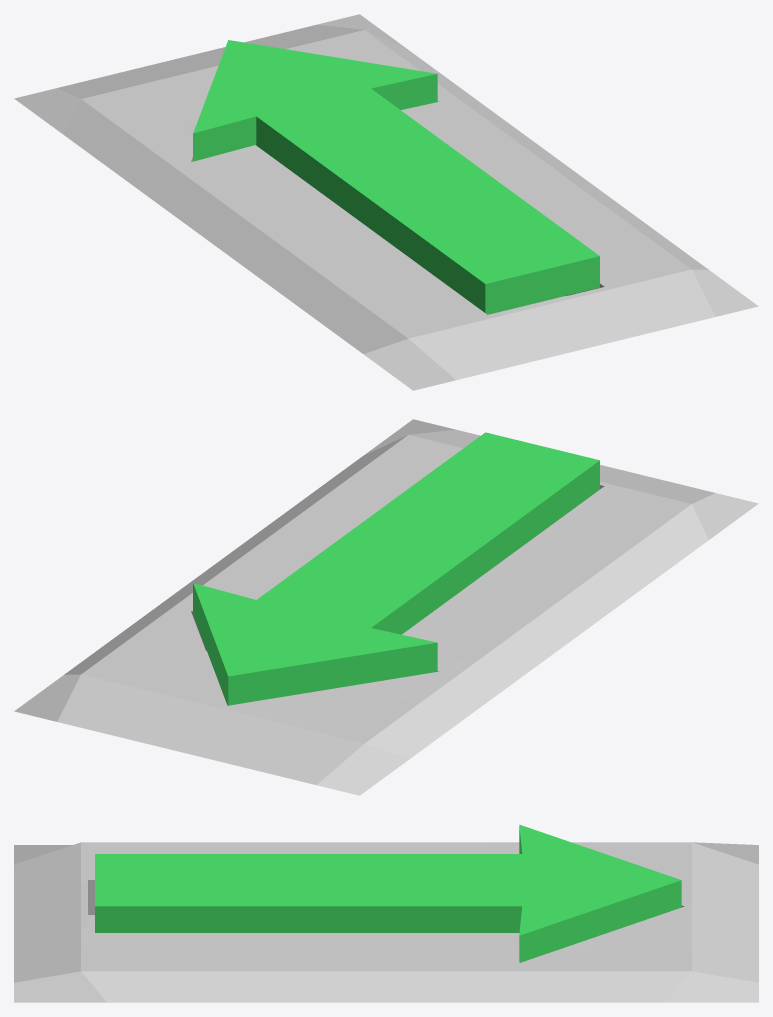
Rendered from props.fbx_B4.fbx.
3 renders of one model, top to bottom at view 1: azimuth 30°, elevation 25°; view 2: azimuth 150°, elevation 25°; view 3: azimuth 270°, elevation 25°, orthographic. The views are drawn at different scales.
Visible parts, largest first — view 1: Plane.002, Cube; view 2: Plane.002, Cube; view 3: Plane.002, Cube.
Boxes of the visible parts, bbox=[...] form: Plane.002: bbox=[14, 14, 758, 390]; Cube: bbox=[193, 40, 599, 314]; Plane.002: bbox=[14, 419, 758, 795]; Cube: bbox=[193, 432, 599, 705]; Plane.002: bbox=[14, 842, 758, 1002]; Cube: bbox=[95, 824, 681, 962].
Size of the model in its own units: 0.915 by 0.1661 by 1.83.
